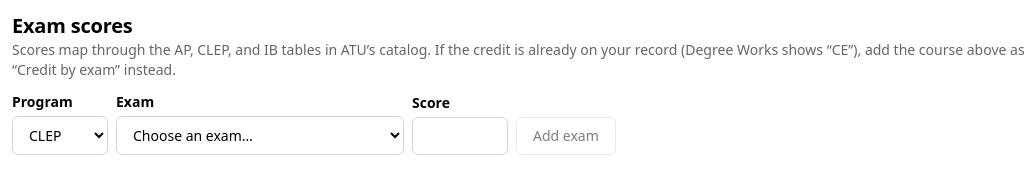
ExamEntry › says when an exam awards generic credit rather than a course
Select "AP" in the dropdown labelled "Program". click: (60,136)
box: [12, 116, 108, 155]
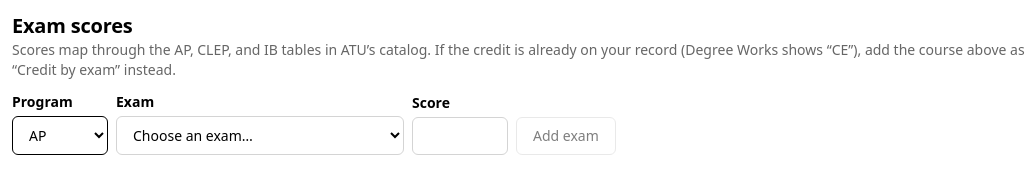
Select "European History" in the dropdown labelled "Exam". click: (260,136)
box: [116, 116, 404, 155]
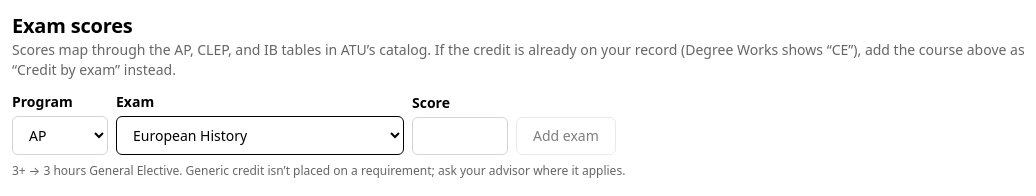
Result: the text "3 hours General Elective" is shown at [12, 162, 179, 179]
